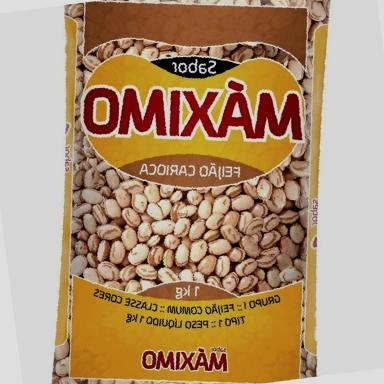beans package: (53, 0, 329, 383)
